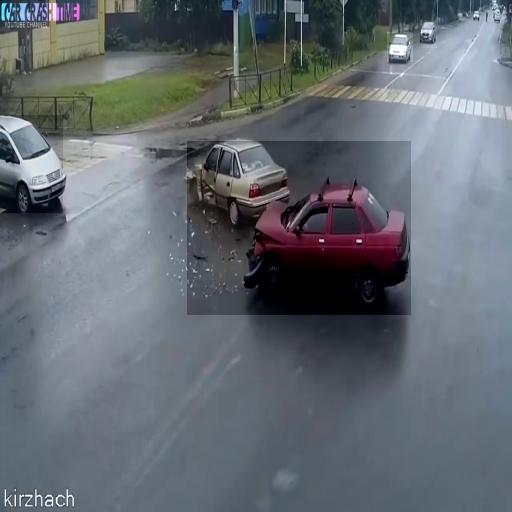小汽车: (0, 115, 63, 213), (387, 32, 413, 62), (421, 20, 437, 48)
小汽车撞小汽车: (187, 141, 411, 315)
